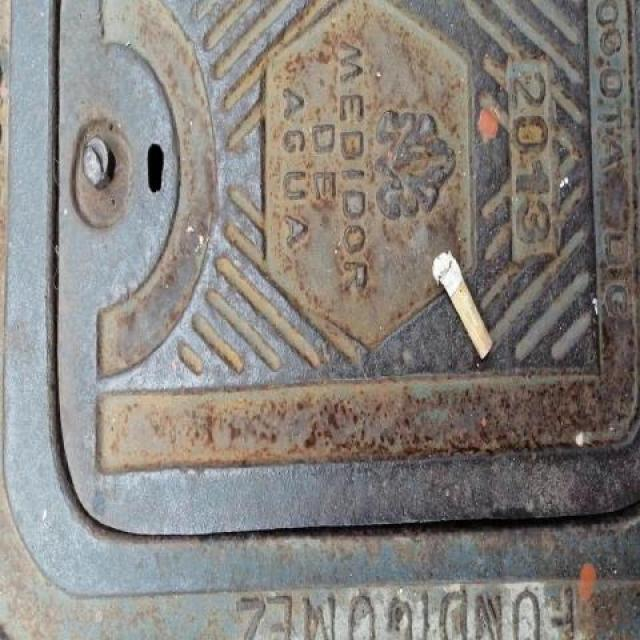non-organic waste: (430, 246, 497, 362)
